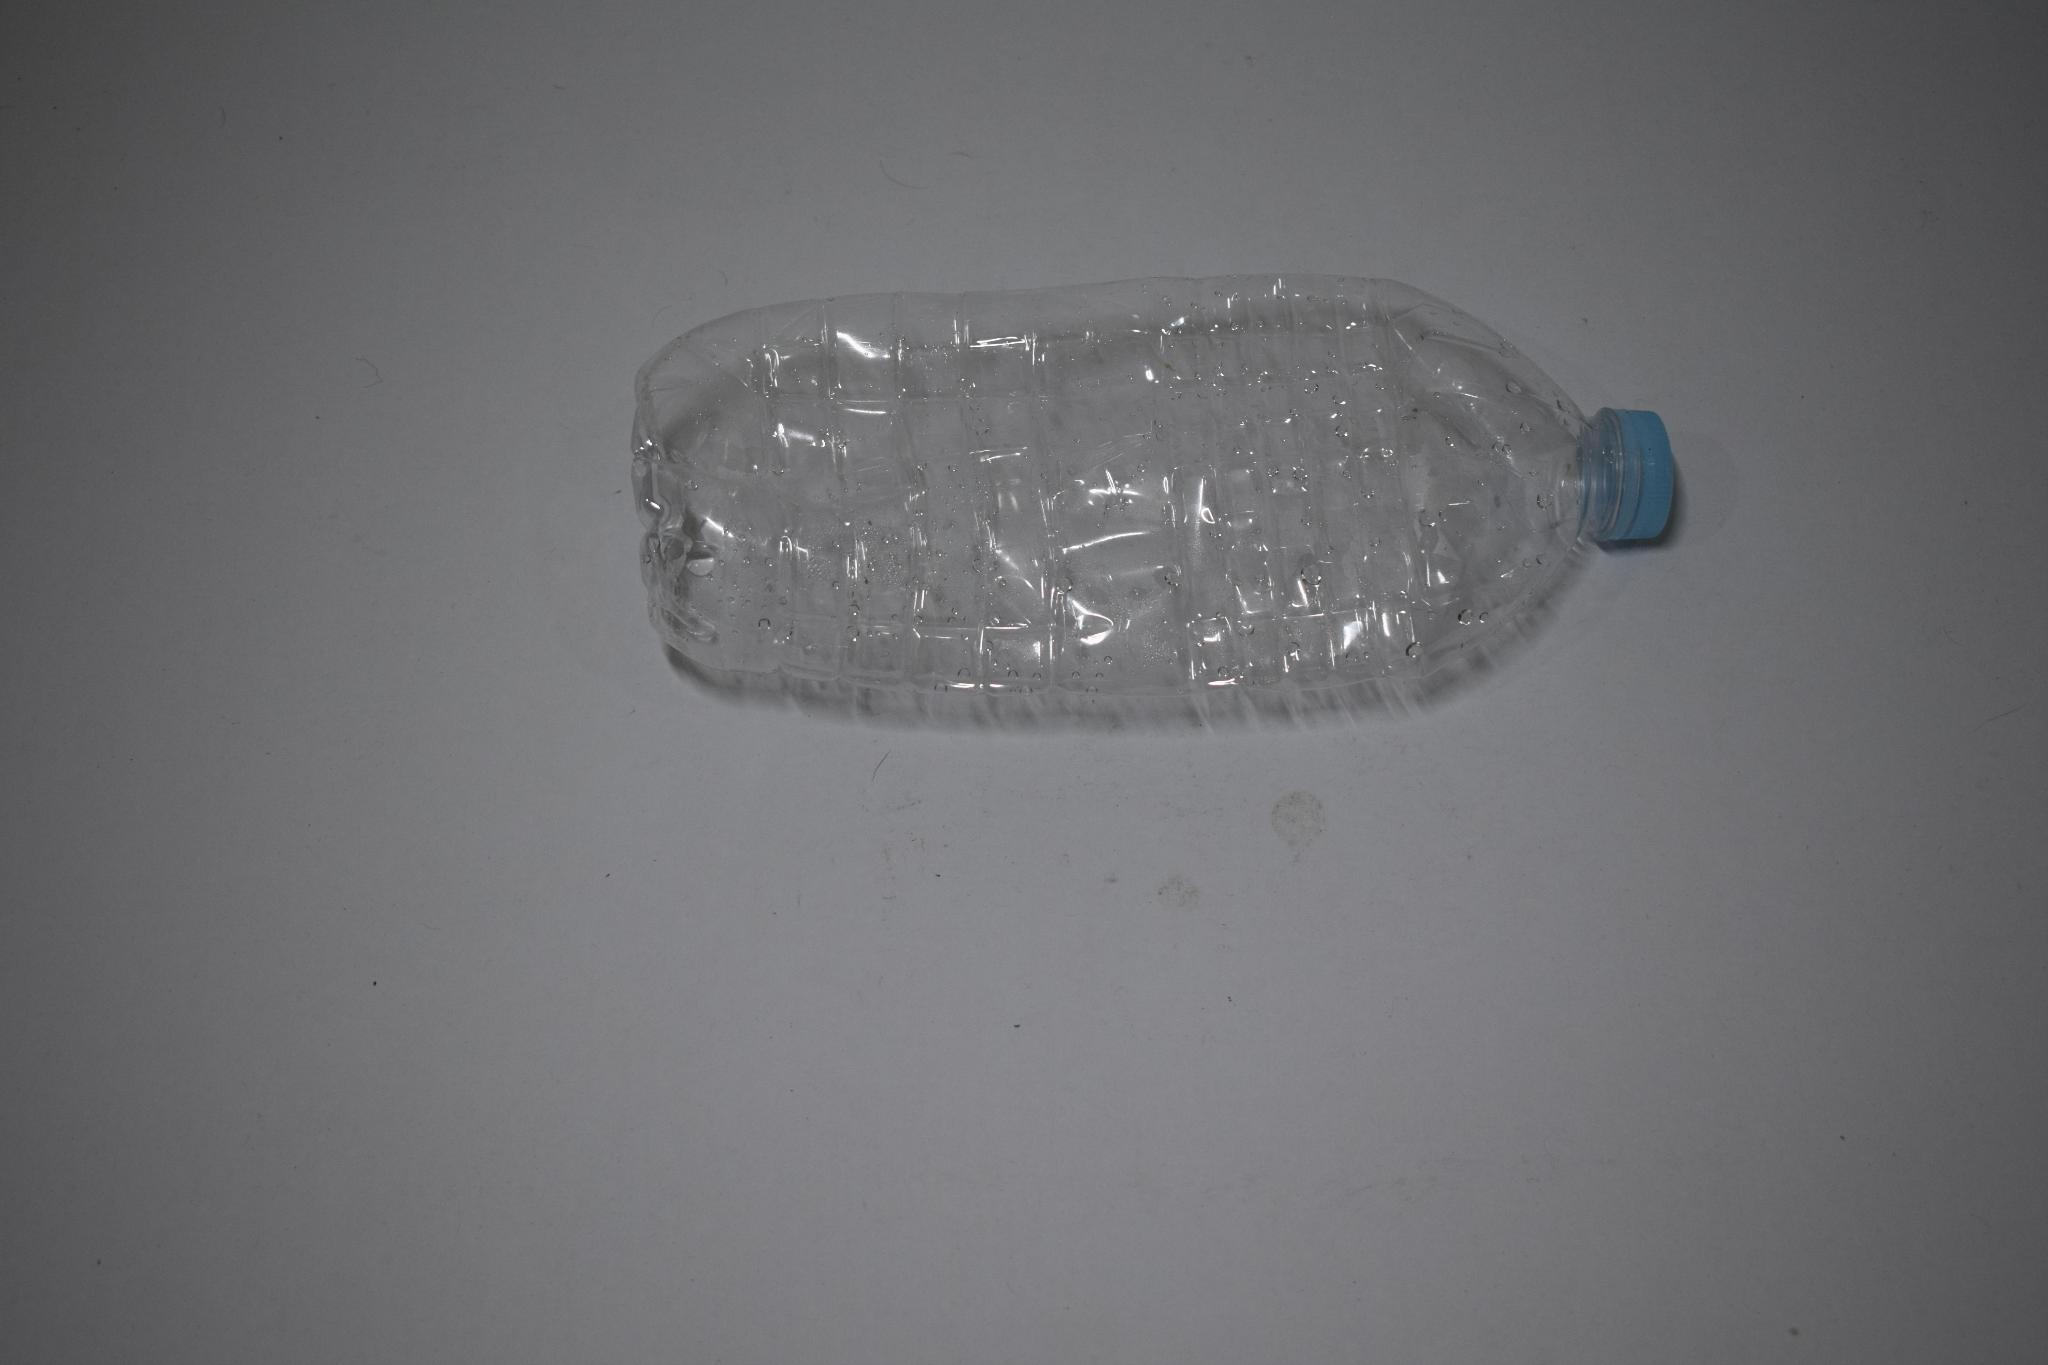bottle: (631, 283, 1705, 733)
